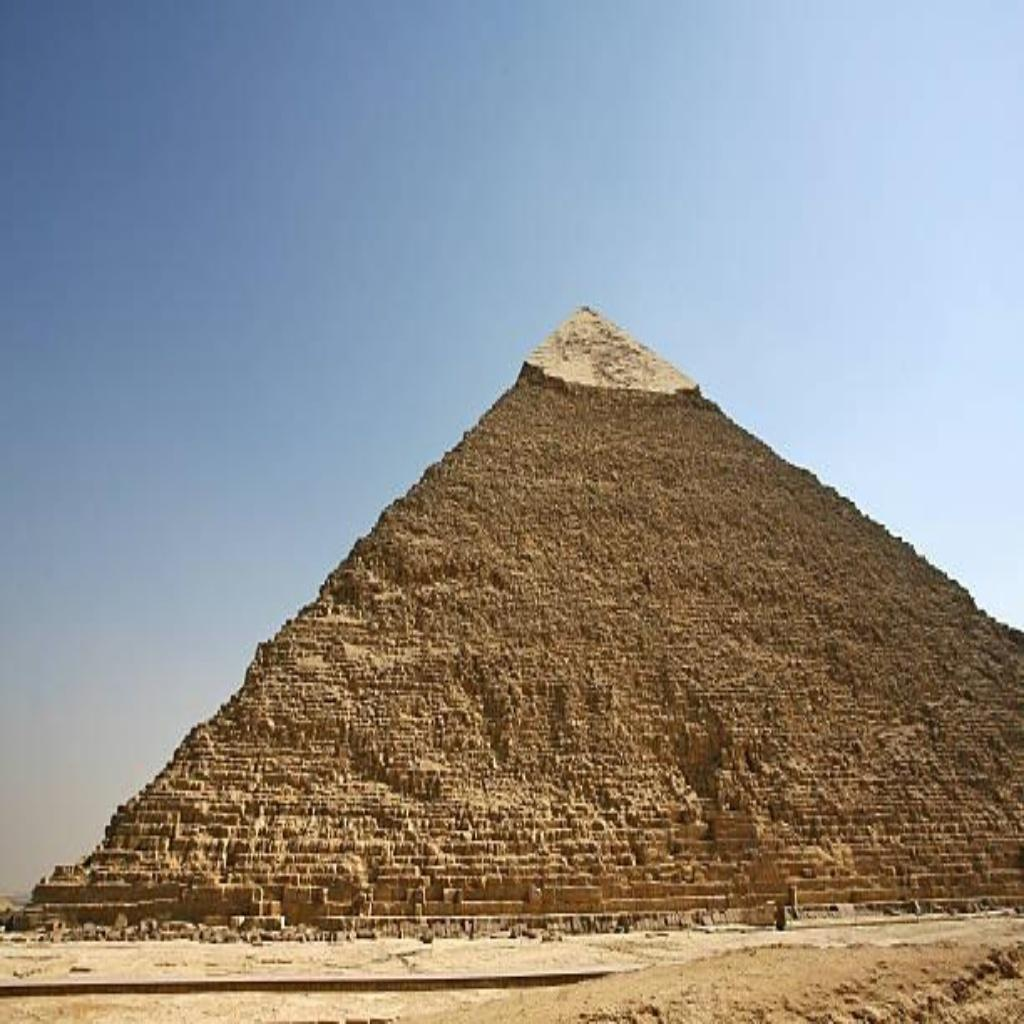Great Pyramids of Giza: (15, 296, 1019, 936)
